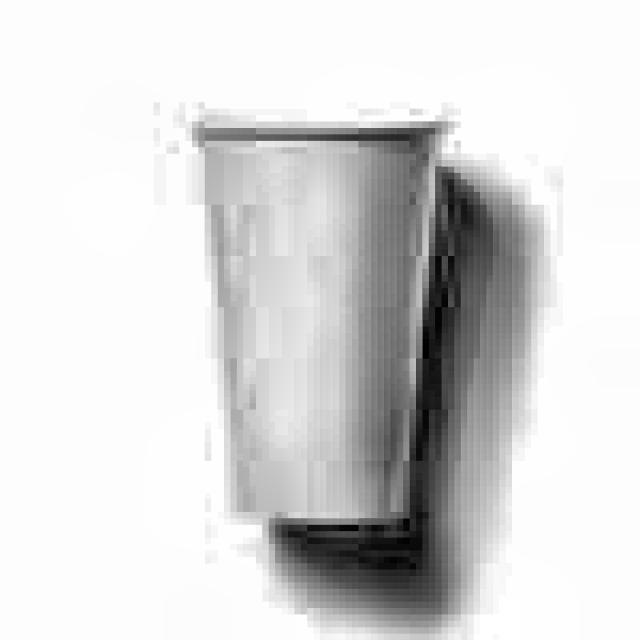Cup: (182, 109, 457, 550)
